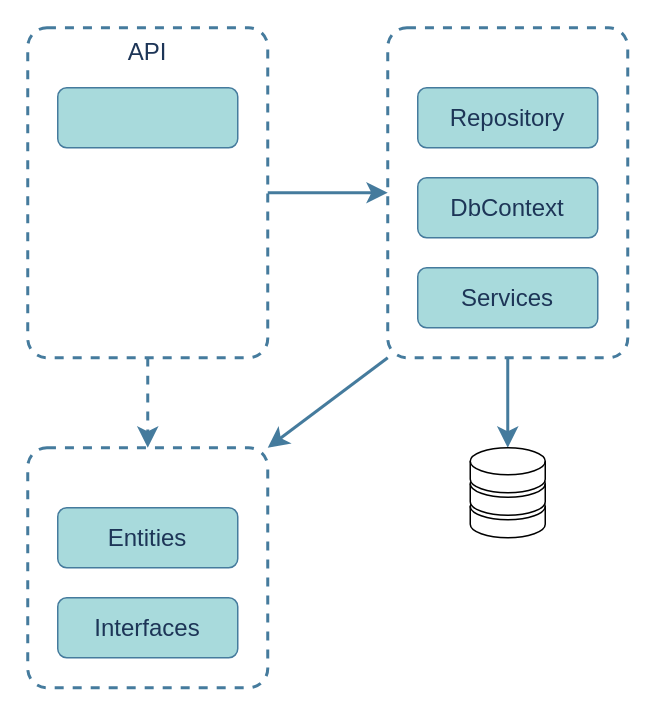
The diagram is 654 pixels wide and 714 high, and some of its shapes have lost their labels. Here are the shapes that lost their labels. From the top down, the box of each, then its label:
(56, 86, 238, 148): Controllers
(386, 26, 628, 358): Infrastruture
(26, 446, 268, 688): Core
